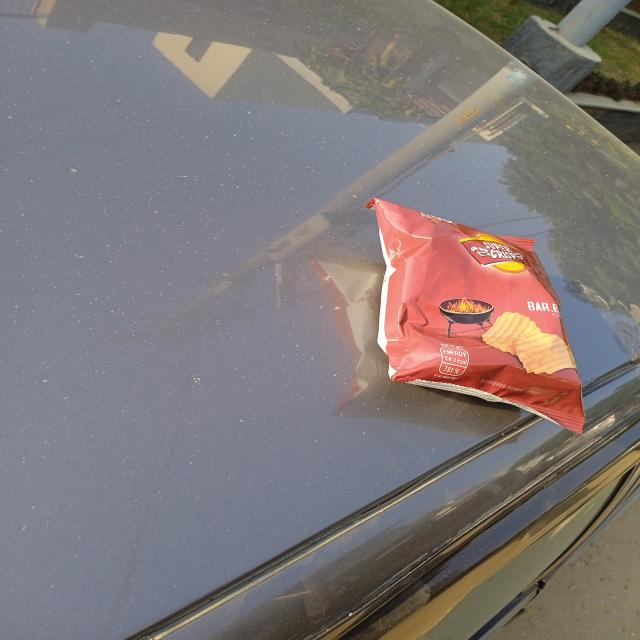Plastic: (374, 192, 594, 434)
